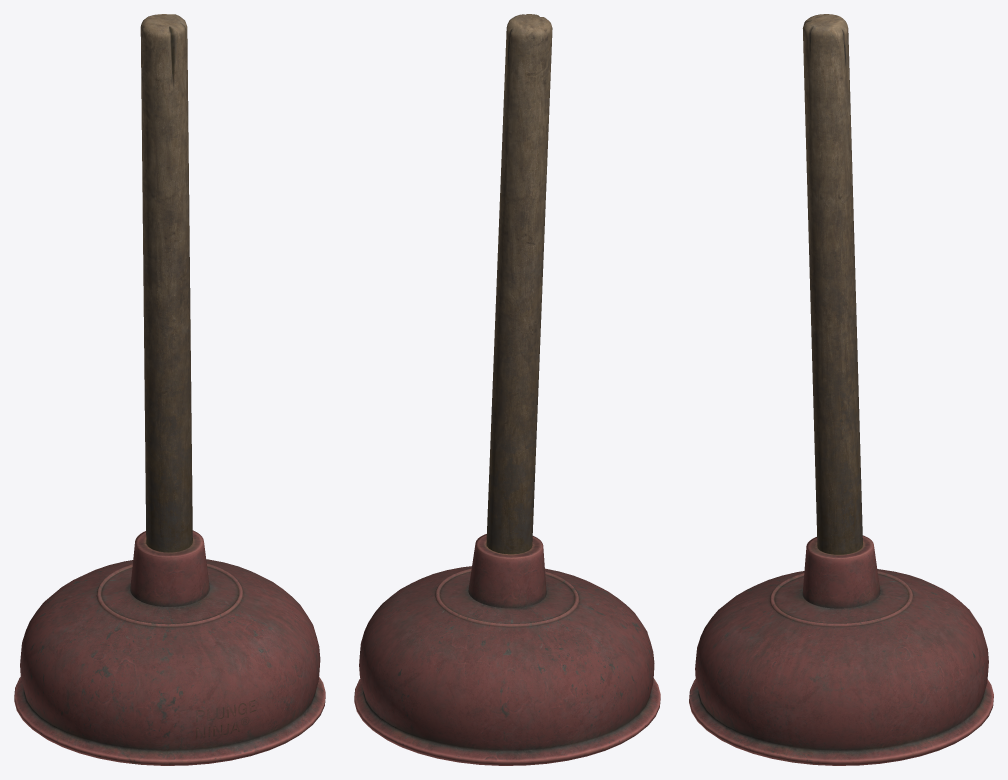
Rendered from plunger.gltf.
3 renders of one model, left to right at view 1: azimuth 30°, elevation 25°; view 2: azimuth 150°, elevation 25°; view 3: azimuth 270°, elevation 25°, orthographic. The views are drawn at different scales.
Visible parts, largest first — view 1: plunger; view 2: plunger; view 3: plunger.
Boxes of the visible parts, bbox=[...] form: plunger: bbox=[14, 14, 325, 765]; plunger: bbox=[354, 14, 660, 765]; plunger: bbox=[689, 14, 993, 765].
Size of the model in its own units: 0.1721 by 0.4211 by 0.1721.
Materials: 1 (1 with a texture image).
